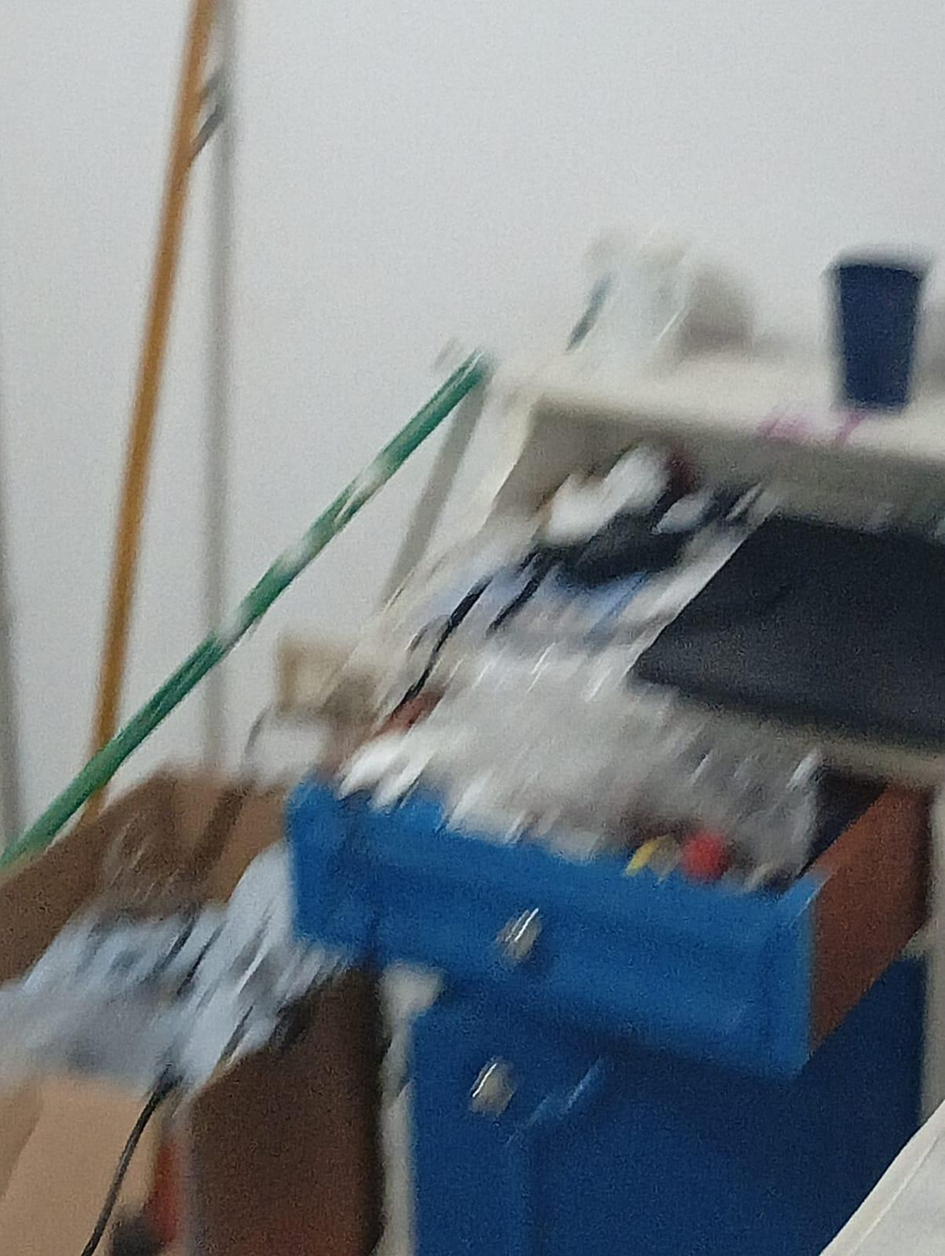cup: (577, 233, 695, 374), (832, 257, 927, 407)
